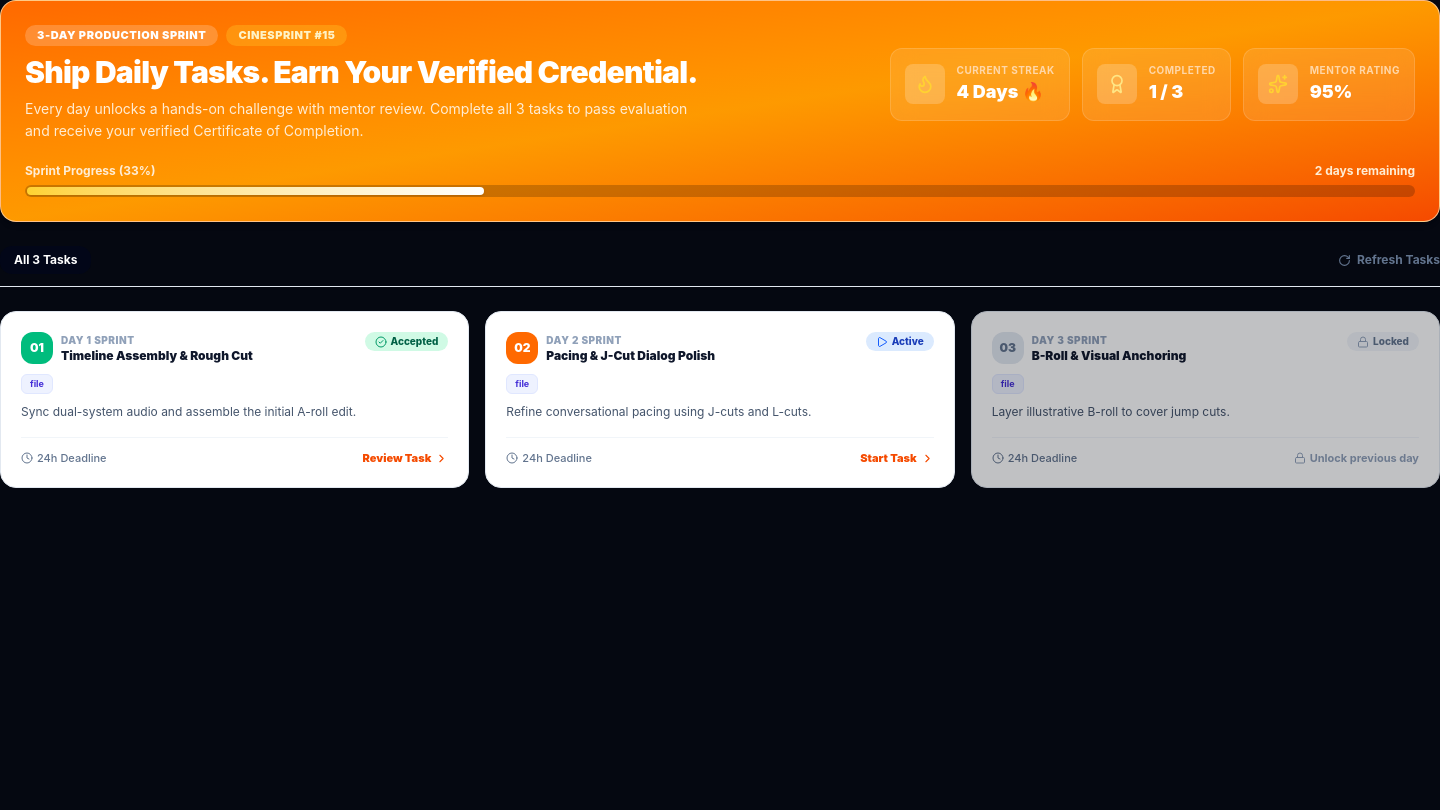
SprintChallengeTracker with Dynamic Challenge Upload › opens challenge modal with DynamicChallengeSubmissionBox when clicking an active day
Note: Click Day 2 (Active task)
Click the heading "Pacing & J-Cut Dialog Polish": [631, 356] box [546, 348, 715, 364]
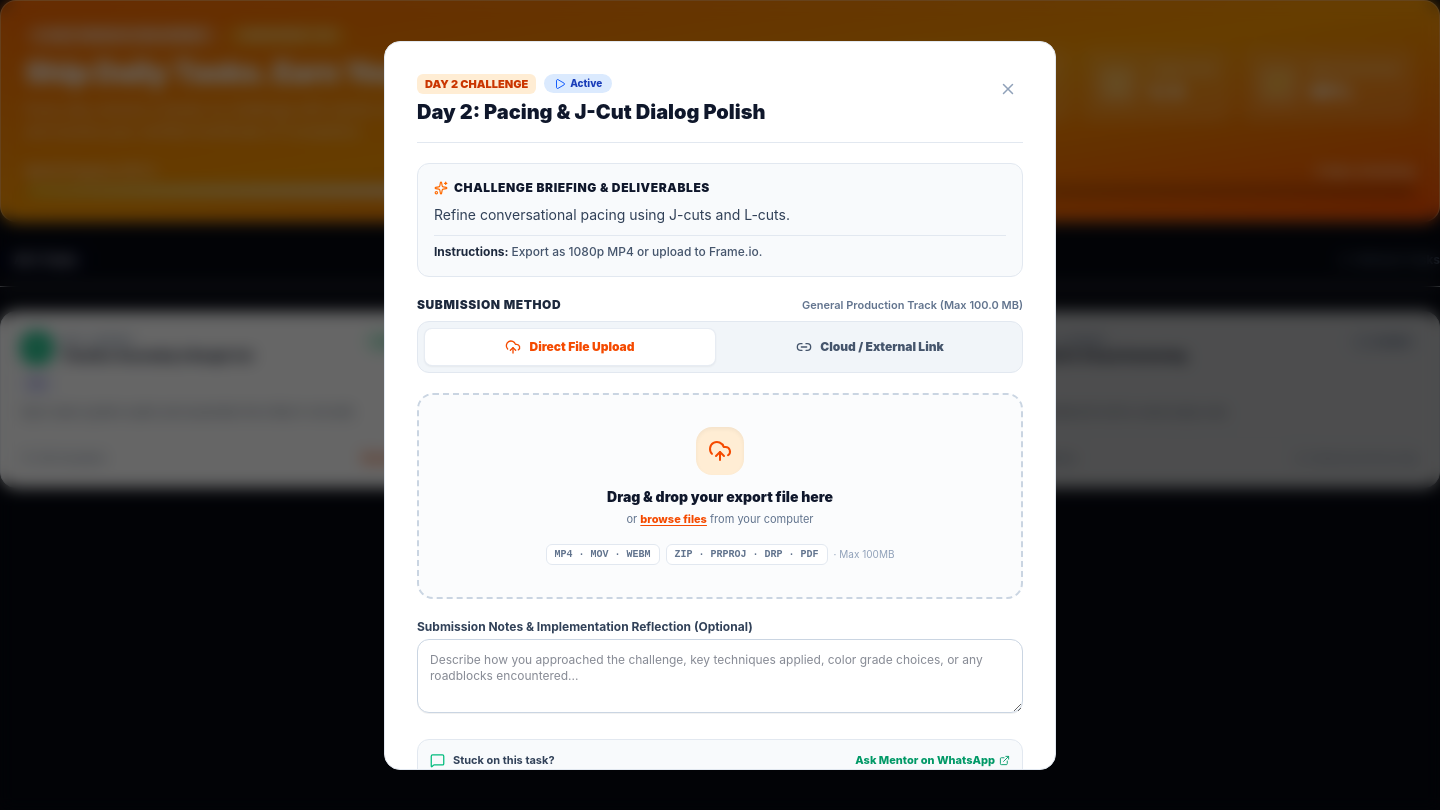
Expected: the heading "Day 2: Pacing & J-Cut Dialog Polish" is shown, [417, 98, 765, 126]
Expected: the text "Submission Method" is shown, [417, 297, 561, 313]
Expected: the button "Direct File Upload" is shown, [424, 328, 716, 366]
